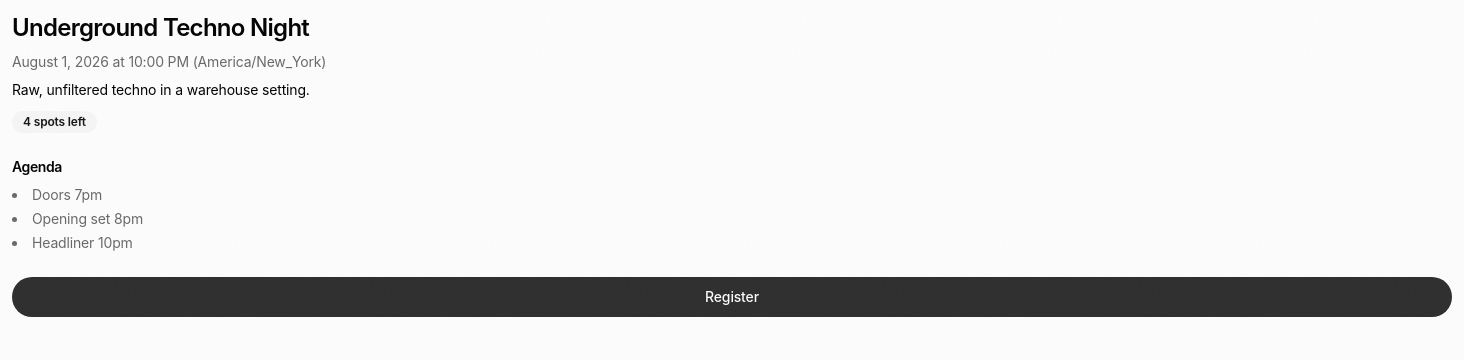
EventDetailSection — event-detail / event-confirmation blocks › a generic registration failure surfaces an error and never renders the confirmation
Step 1. Click the button "Register" → (732, 297), box [12, 277, 1452, 317]
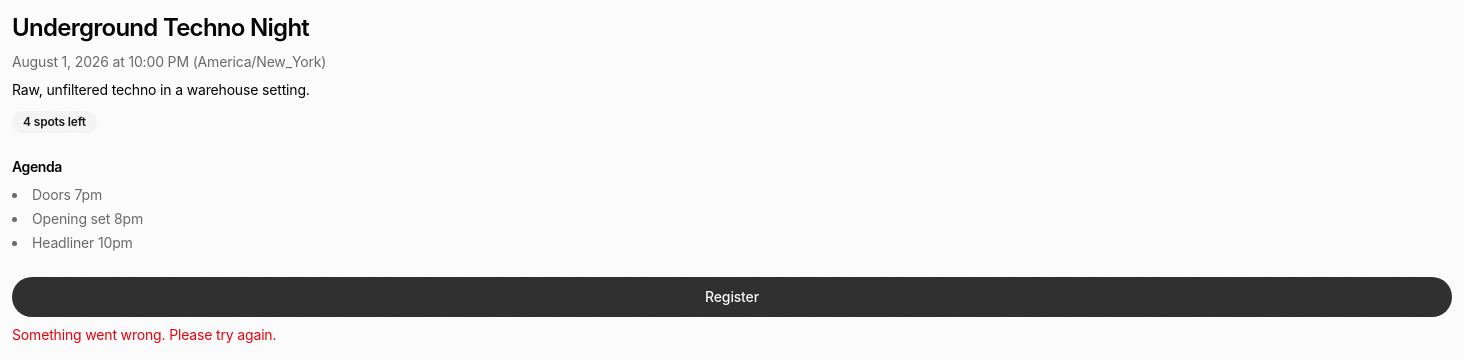
Now the text "Something went wrong. Please try again." is shown, box [12, 326, 276, 343]
